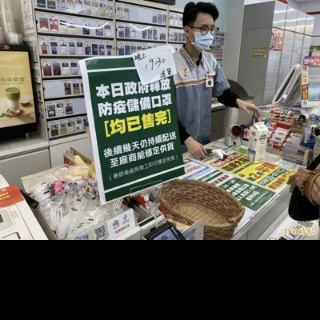with_mask: (189, 22, 216, 51)
